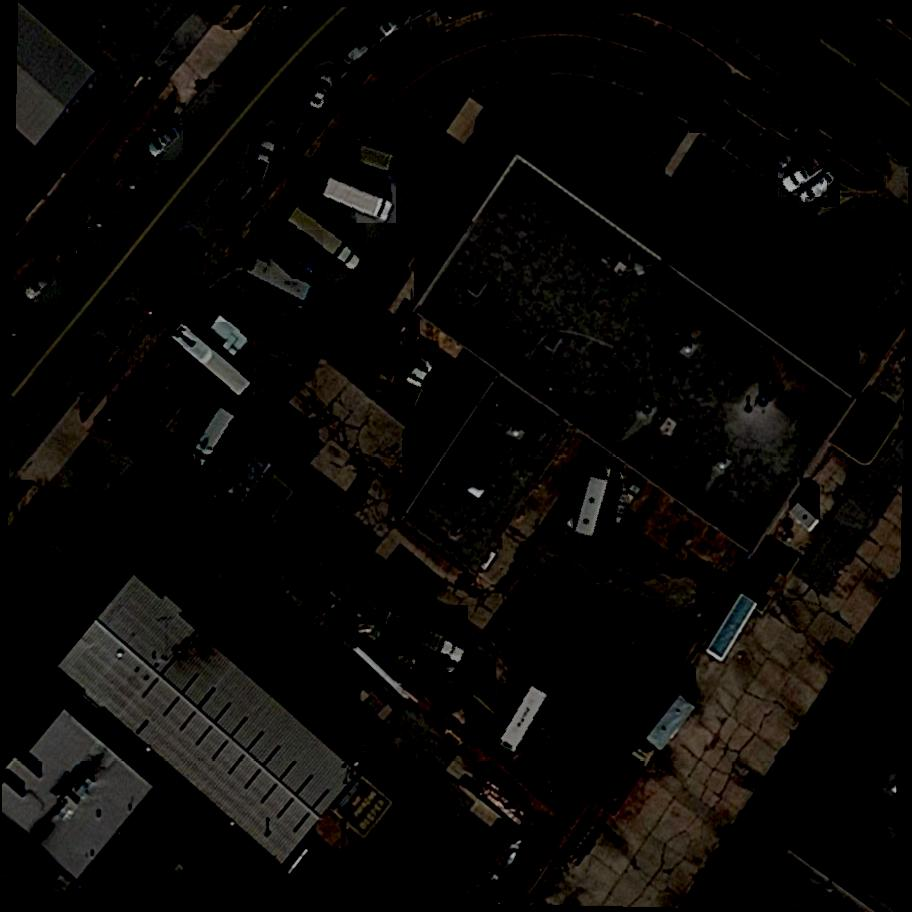large-vehicle: (169, 322, 252, 398), (284, 200, 368, 275), (378, 605, 472, 669), (552, 712, 610, 807), (495, 683, 552, 756), (243, 255, 319, 308), (319, 176, 397, 224), (574, 458, 617, 538), (189, 405, 241, 471), (354, 140, 413, 183)
small-vehicle: (661, 61, 720, 116), (267, 231, 324, 282), (394, 354, 438, 414), (647, 51, 689, 108), (778, 154, 830, 199), (336, 29, 381, 77), (689, 80, 726, 134), (87, 185, 130, 230), (72, 346, 108, 393), (249, 134, 282, 185), (143, 123, 186, 160), (22, 267, 66, 303), (805, 169, 844, 208), (121, 152, 156, 195), (306, 70, 338, 113), (137, 276, 175, 312), (167, 239, 205, 273), (61, 228, 91, 269), (110, 307, 138, 349), (211, 192, 241, 230), (279, 104, 308, 143), (773, 143, 798, 184)
